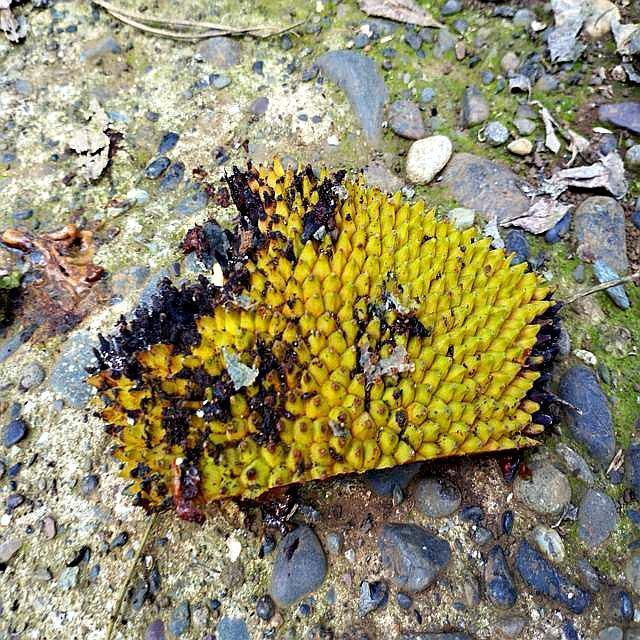Biodegradable: (103, 179, 565, 507)
